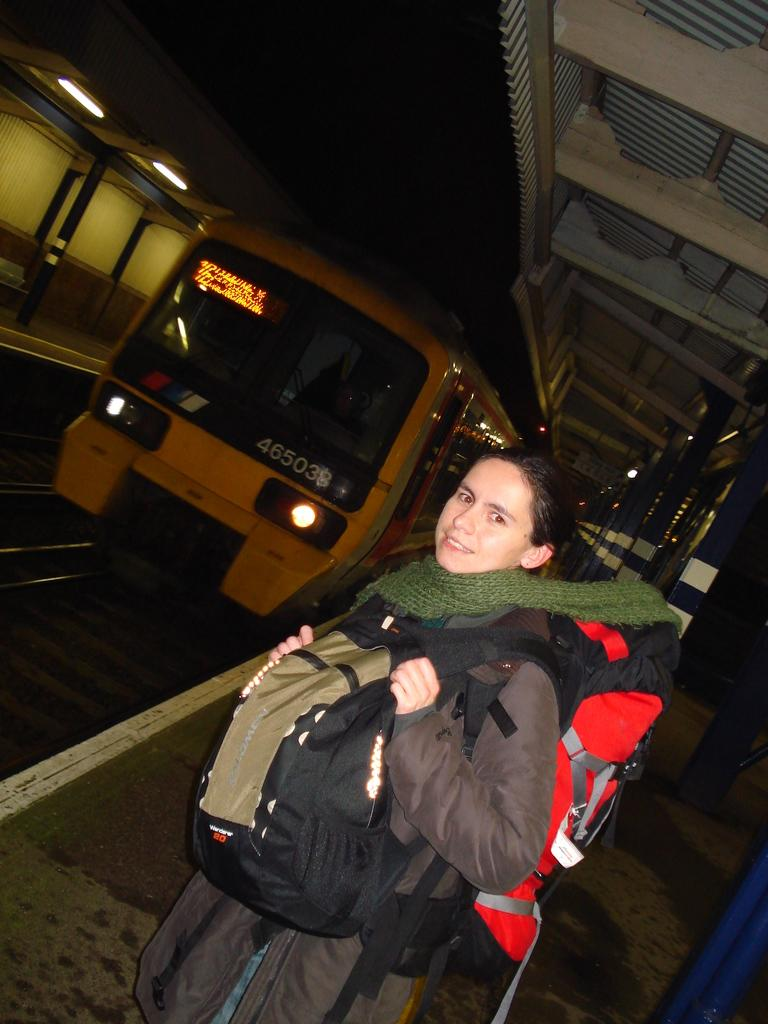Luggage-and-bags: (184, 589, 593, 991), (500, 582, 676, 998)
